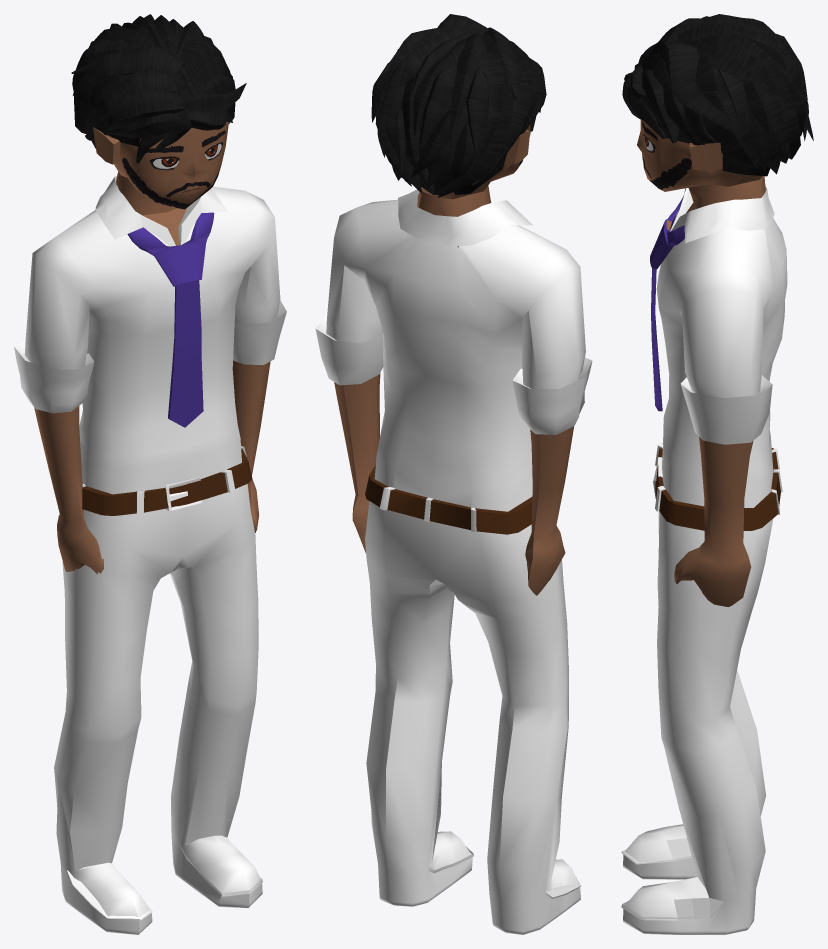
File: CarlosTCC_final.fbx
3 views of the same model, side by side, from view 1: azimuth 30°, elevation 25°; view 2: azimuth 150°, elevation 25°; view 3: azimuth 270°, elevation 25° (orthographic).
Visible parts, largest first — view 1: FullMenBody; view 2: FullMenBody; view 3: FullMenBody.
Part boxes in pixels (x1,y1,x2,y2): FullMenBody: (14, 14, 286, 934); FullMenBody: (315, 14, 592, 934); FullMenBody: (621, 14, 813, 934).
Size of the model in its own units: 113 by 368 by 73.03.
8 materials, 2 textured.
